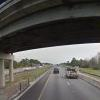Bridge: (6, 6, 98, 58)
